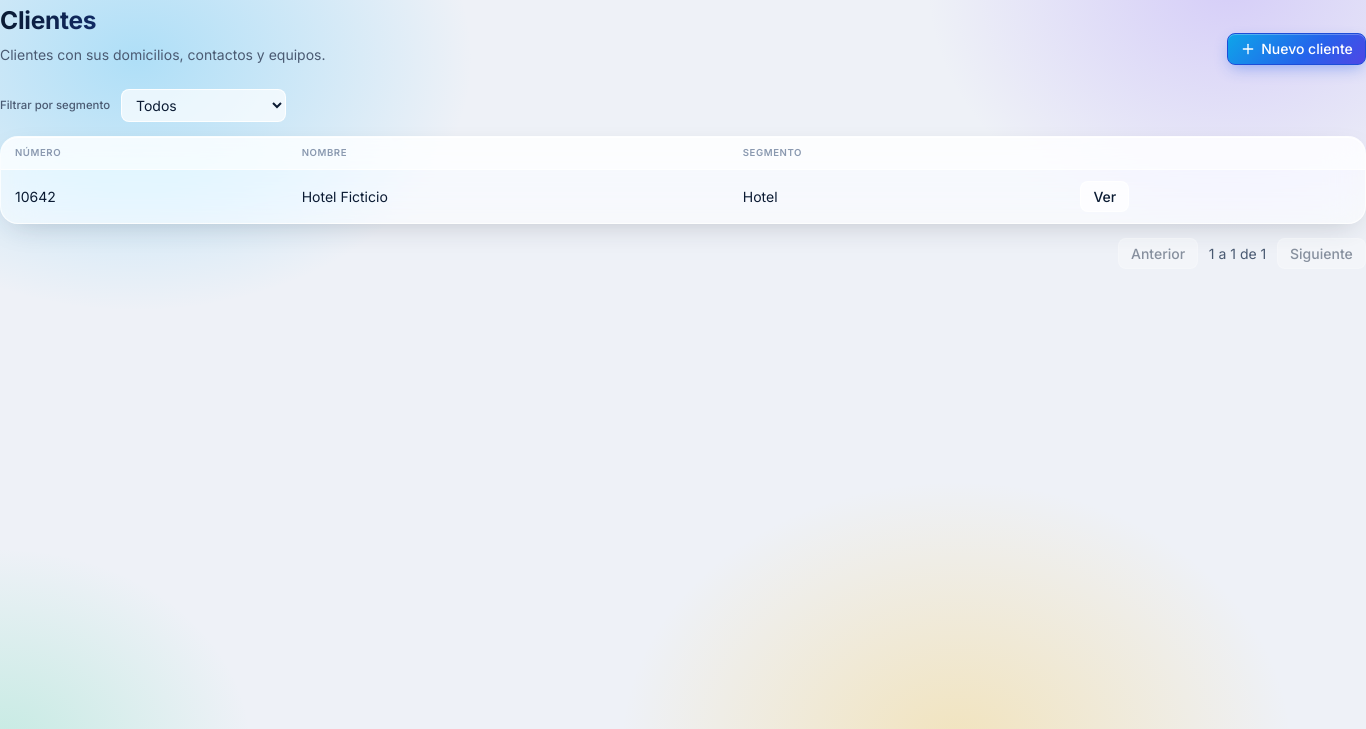
Scenario: ClientsPage › equipos (E03-03) › muestra la cantidad de equipos de cada domicilio
This screenshot has width=1366, height=729.
Click the button with aria-label "Ver Hotel Ficticio" at point(1105, 197), box x1=1080 y1=181 x2=1130 y2=212
(page scrolled)
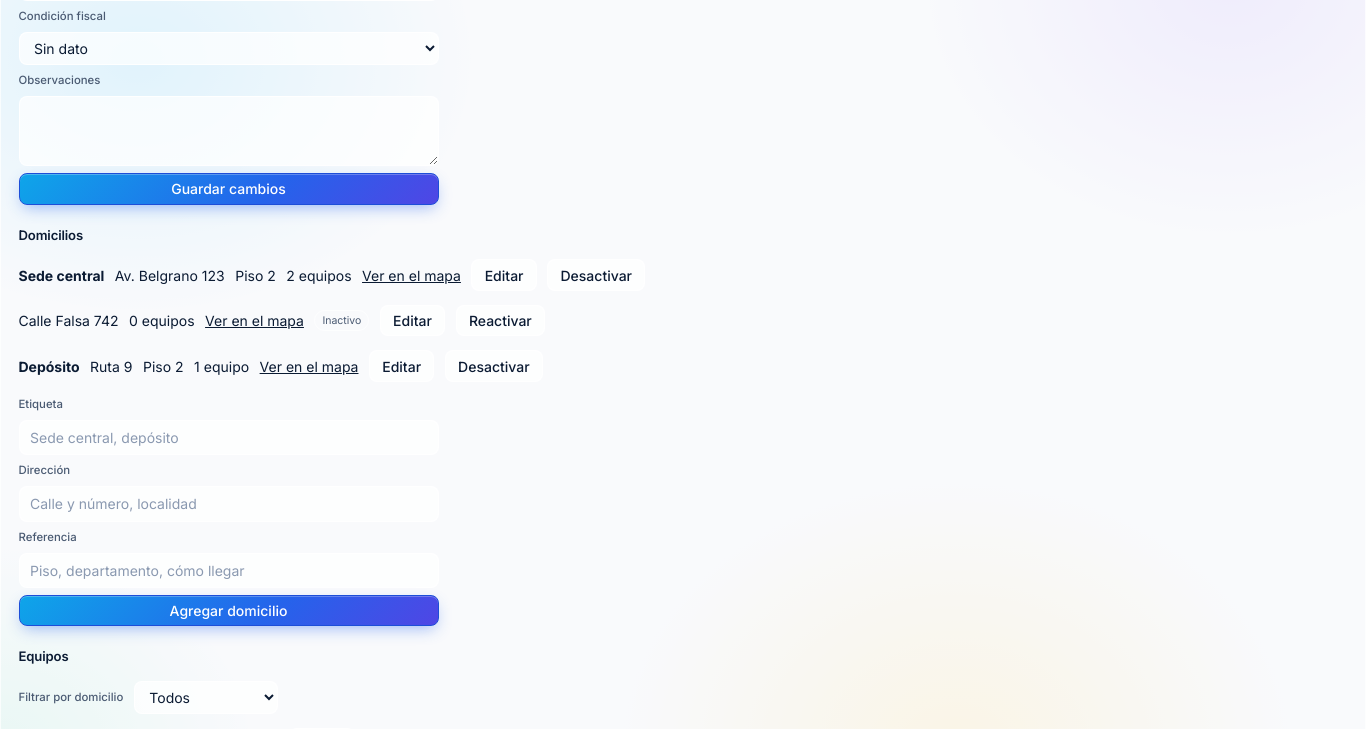
Expected: the text "2 equipos" is shown, x1=286 y1=265 x2=352 y2=286
Expected: the text "1 equipo" is shown, x1=194 y1=356 x2=249 y2=377
